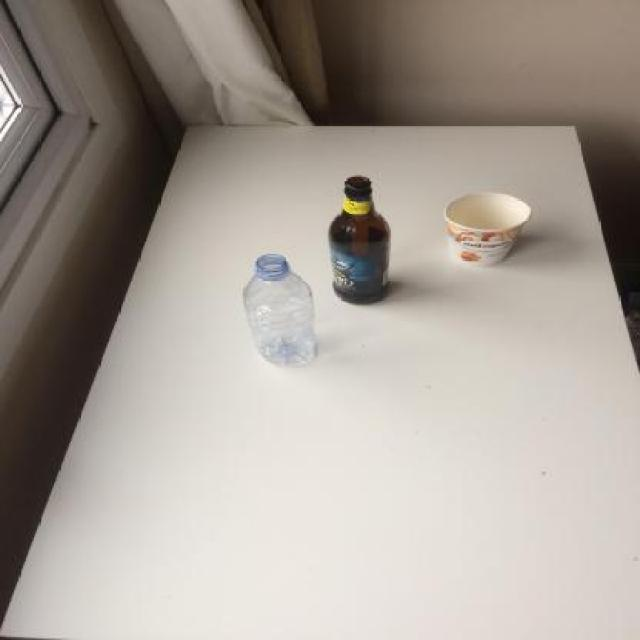cardboard: (444, 192, 533, 266)
glass: (328, 176, 392, 304)
plastic: (241, 254, 317, 366)
